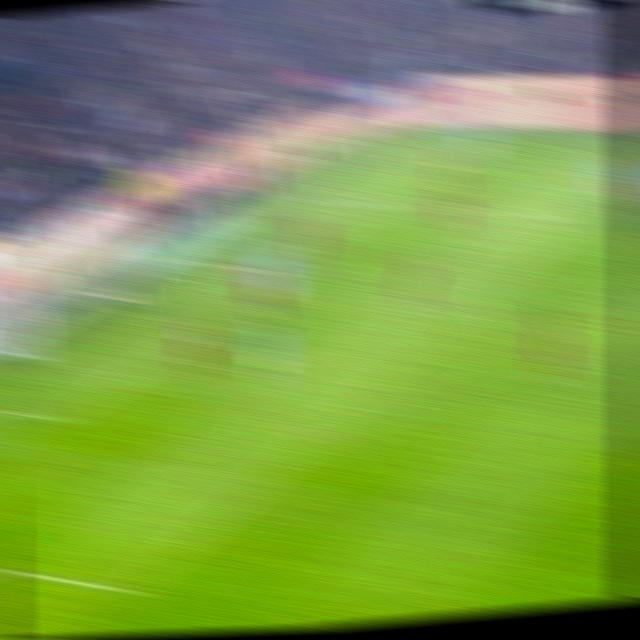bigarea_bottom_inner: (110, 574, 148, 607)
bigarea_top_inner: (562, 208, 595, 228)
bigarea_top_outter: (288, 190, 315, 204)
bottom_arc_area_intersection: (303, 420, 335, 445)
corner: (396, 126, 427, 139)
smallarea_bottom_inner: (42, 401, 80, 435)
smallarea_top_outter: (180, 254, 210, 271)
top_arc_area_intersection: (458, 294, 489, 315)
